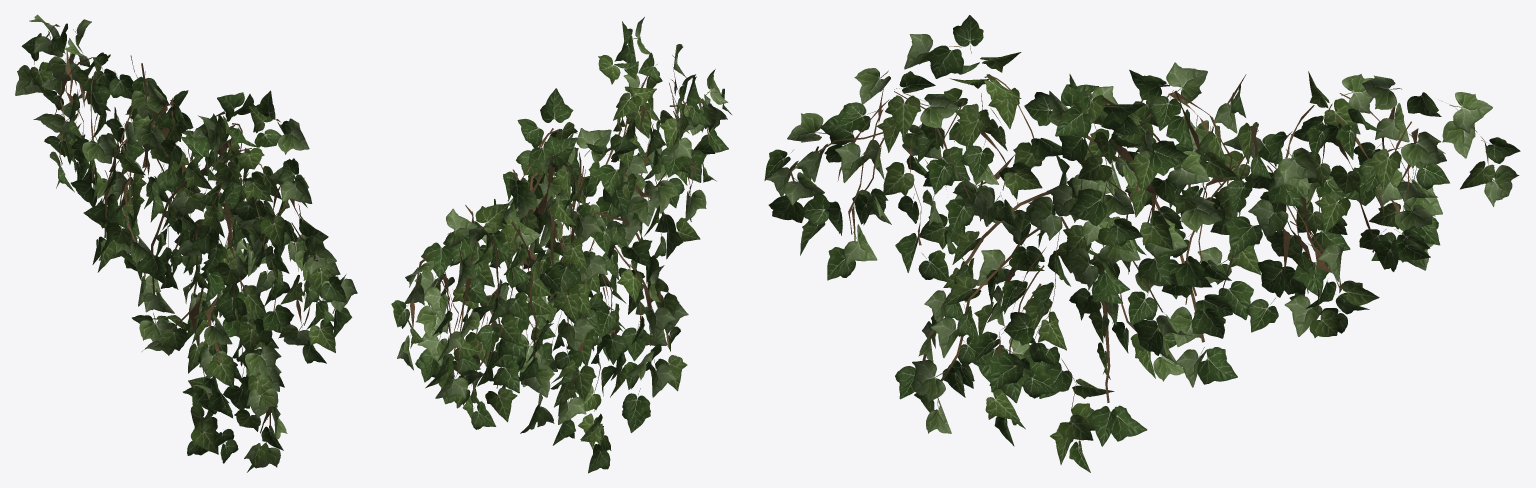
File: SM_Ivy_01b.fbx
3 views of the same model, side by side, from view 1: azimuth 30°, elevation 25°; view 2: azimuth 150°, elevation 25°; view 3: azimuth 270°, elevation 25° (orthographic). The views are drawn at different scales.
Visible parts, largest first — view 1: SM_Ivy_01b; view 2: SM_Ivy_01b; view 3: SM_Ivy_01b.
Boxes of the visible parts, x1,y1,x2,y2 form: SM_Ivy_01b: (15, 14, 357, 472); SM_Ivy_01b: (391, 17, 731, 473); SM_Ivy_01b: (764, 15, 1520, 472).
Size of the model in its own units: 46.63 by 239 by 163.
2 materials, 2 textured.
